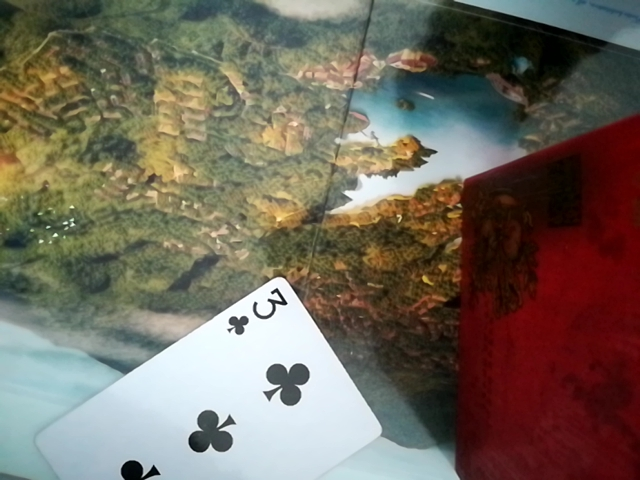mh 3: (35, 281, 399, 480)
